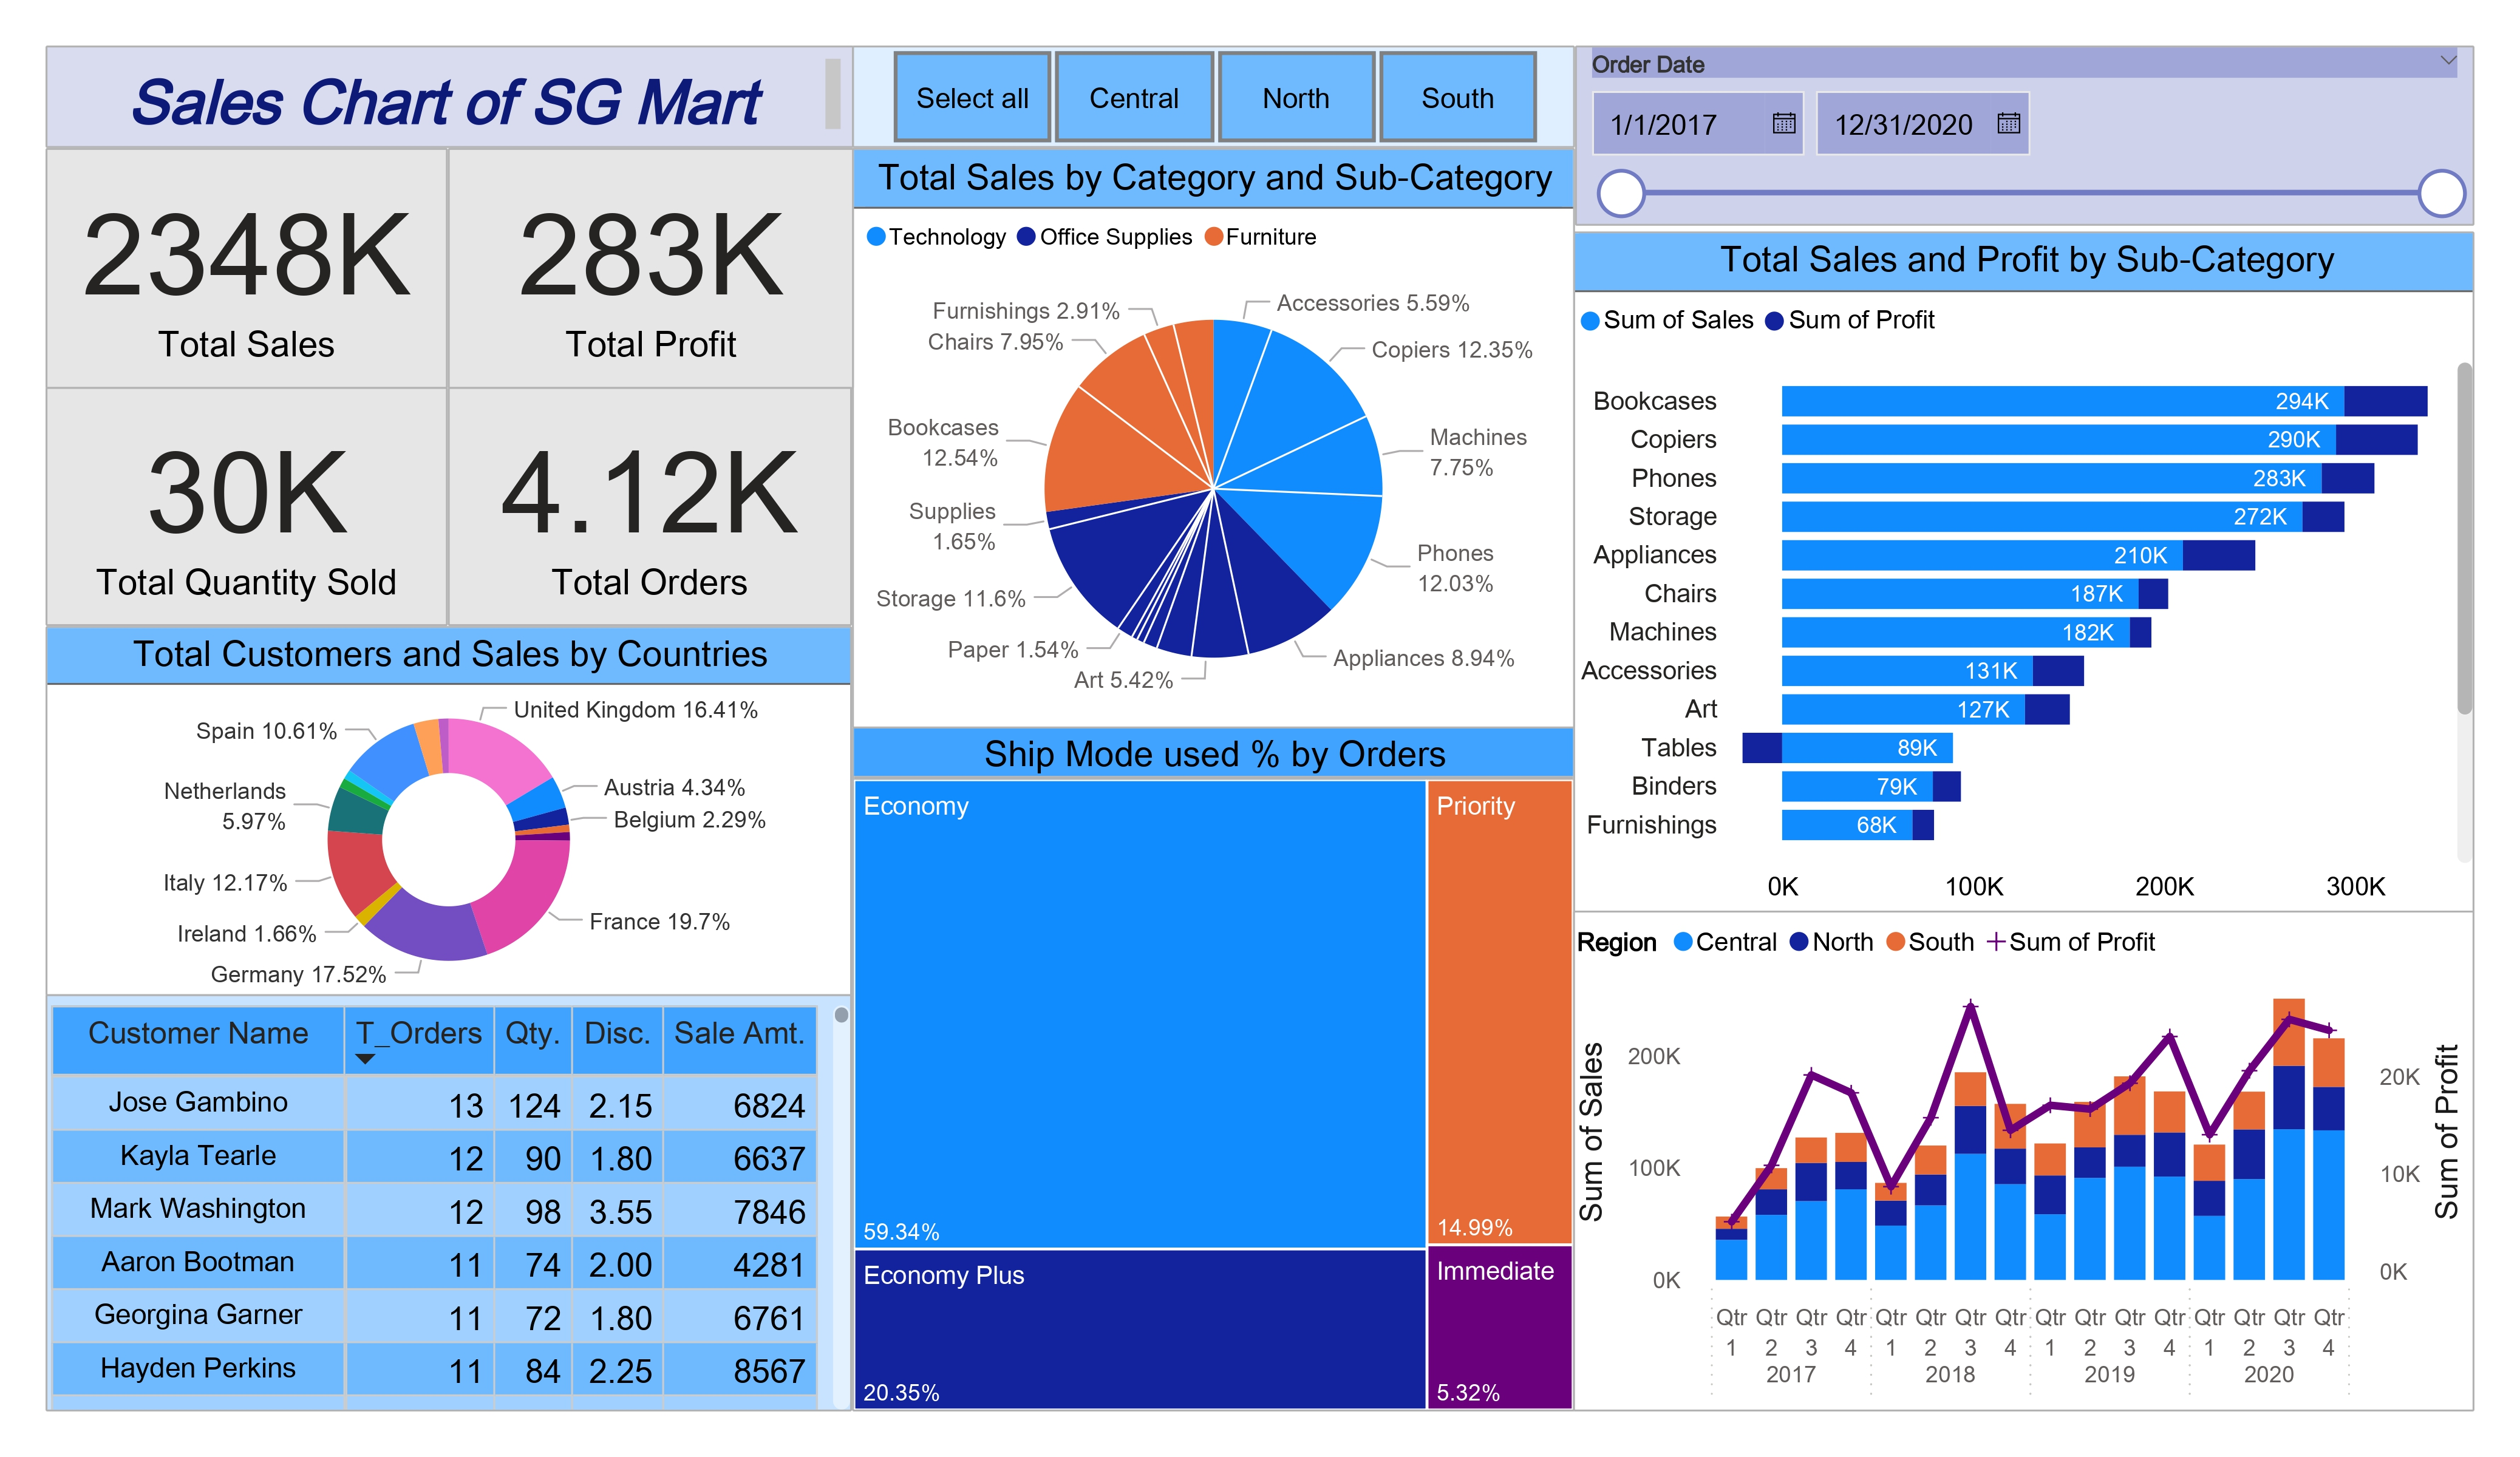

This screenshot's page, from the dashboard's own definition file:
{"tool":"powerbi","page":{"name":"Sales Chart","canvas":[1280,720],"ordinal":0},"visuals":[{"type":"barChart","title":"Total Sales and Profit by Sub-Category","fields":{"Y":["Sum(Order Breakdown.Sales)","Sum(Order Breakdown.Profit)"],"Category":["Order Breakdown.Sub-Category"]},"box":[804.7,97.7,475.3,360.7],"z":0},{"type":"pieChart","title":"Total Sales by Category and Sub-Category","fields":{"Y":["Sum(Order Breakdown.Sales)"],"Category":["Order Breakdown.Category"],"Series":["Order Breakdown.Sub-Category"]},"box":[424.7,54.3,381.2,305.2],"z":1000},{"type":"treemap","title":"Ship Mode used % by Orders","fields":{"Values":["CountNonNull(List of Orders.Order ID)"],"Group":["List of Orders.Ship Mode"]},"box":[424.7,359.3,381.2,360.7],"z":2000},{"type":"lineStackedColumnComboChart","fields":{"Category":["List of Orders.Order Date.Variation.Date Hierarchy.Year","List of Orders.Order Date.Variation.Date Hierarchy.Quarter","List of Orders.Order Date.Variation.Date Hierarchy.Month","List of Orders.Order Date.Variation.Date Hierarchy.Day"],"Y":["Sum(Order Breakdown.Sales)"],"Y2":["Sum(Order Breakdown.Profit)"],"Series":["List of Orders.Region"]},"box":[804.7,455.8,475.3,264.2],"z":3000},{"type":"pivotTable","fields":{"Values":["CountNonNull(List of Orders.Order ID)","Sum(Order Breakdown.Quantity)","Sum(Order Breakdown.Discount)","Sum(Order Breakdown.Sales)"],"Rows":["List of Orders.Customer Name"]},"box":[0,500.4,424.7,219.6],"z":4000},{"type":"card","fields":{"Values":["Sum(Order Breakdown.Sales)"]},"box":[0,54.3,212.3,126.7],"z":5000},{"type":"card","fields":{"Values":["Sum(Order Breakdown.Profit)"]},"box":[212.3,54.3,213.5,126.7],"z":6000},{"type":"card","fields":{"Values":["Sum(Order Breakdown.Quantity)"]},"box":[0,179.8,212.3,126.7],"z":7000},{"type":"card","fields":{"Values":["CountNonNull(List of Orders.Order ID)"]},"box":[212.3,179.8,212.3,126.7],"z":8000},{"type":"textbox","box":[0,0,425.9,54.3],"z":9000},{"type":"slicer","fields":{"Values":["List of Orders.Region"]},"box":[424.7,0,381.2,54.3],"z":10000},{"type":"slicer","fields":{"Values":["List of Orders.Order Date"]},"box":[805.9,0,474.1,95.3],"z":11000},{"type":"donutChart","title":"Total Customers and Sales by Countries","fields":{"Y":["Count(List of Orders.Customer Name)"],"Series":["List of Orders.Country"]},"box":[0,306.4,424.7,194.2],"z":12000}]}

Visuals, with their boxes on the page's 1280x720 design canvas (x1, y1, x2, y2). These are canvas units, not pixel positions in the 2520x1457 screenshot, which may show the page scaled, cropped or inside an application window:
"Total Sales and Profit by Sub-Category" barChart: [805, 98, 1280, 458]
"Total Sales by Category and Sub-Category" pieChart: [425, 54, 806, 360]
"Ship Mode used % by Orders" treemap: [425, 359, 806, 720]
lineStackedColumnComboChart - List of Orders.Order Date.Variation.Date Hierarchy.Year x List of Orders.Order Date.Variation.Date Hierarchy.Quarter: [805, 456, 1280, 720]
pivotTable - CountNonNull(List of Orders.Order ID) x Sum(Order Breakdown.Quantity): [0, 500, 425, 720]
card - Sum(Order Breakdown.Sales): [0, 54, 212, 181]
card - Sum(Order Breakdown.Profit): [212, 54, 426, 181]
card - Sum(Order Breakdown.Quantity): [0, 180, 212, 306]
card - CountNonNull(List of Orders.Order ID): [212, 180, 425, 306]
textbox: [0, 0, 426, 54]
slicer - List of Orders.Region: [425, 0, 806, 54]
slicer - List of Orders.Order Date: [806, 0, 1280, 95]
"Total Customers and Sales by Countries" donutChart: [0, 306, 425, 501]
